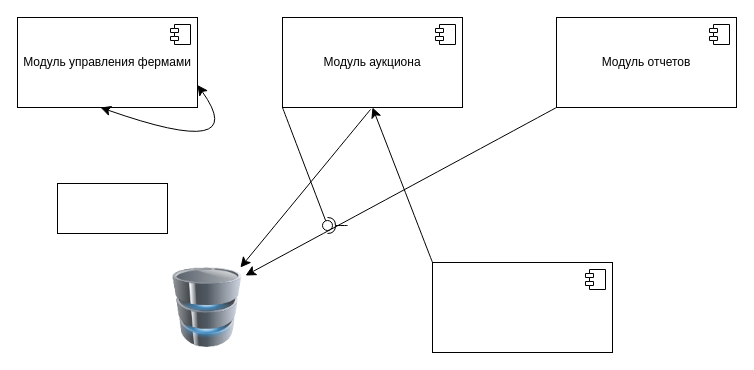
The diagram is 754 pixels wide and 370 high, and some of its shapes have lost their labels. The shapes that lost their labels are listed below. From the top down, each one's centre as x and y in pixels, then its label:
the point at 112,208: Интерфейс хранения данных
the point at 522,307: Пользовательский интерфейс
